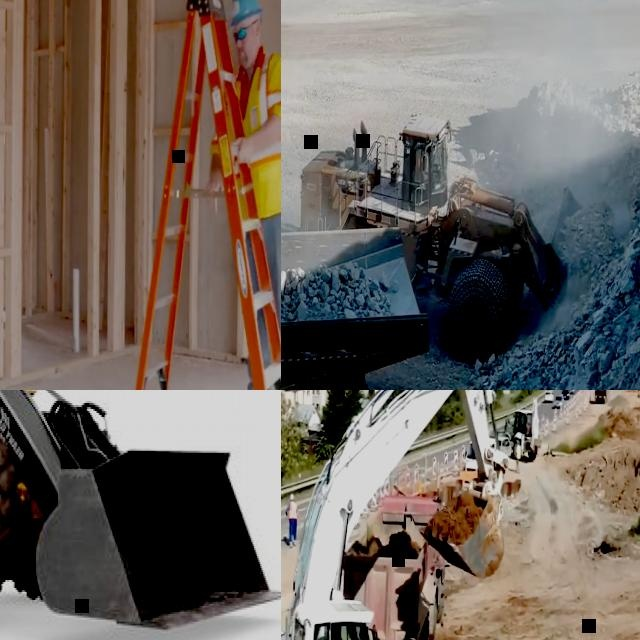Hardhat: (229, 0, 262, 26), (291, 494, 295, 500)
NO-Mask: (238, 37, 259, 67)
Person: (225, 0, 281, 390), (286, 494, 299, 548), (516, 441, 522, 475), (526, 419, 531, 435)
Safety Vest: (211, 47, 281, 172), (289, 503, 299, 521), (517, 446, 521, 458)
machinery: (292, 109, 582, 367), (0, 390, 281, 639), (281, 390, 509, 640), (281, 197, 433, 390), (340, 493, 447, 640), (504, 396, 544, 460), (595, 390, 607, 404)
vehicle: (465, 437, 496, 483), (498, 434, 512, 457), (555, 395, 565, 409), (545, 391, 554, 403), (562, 390, 570, 400), (569, 390, 577, 395)
